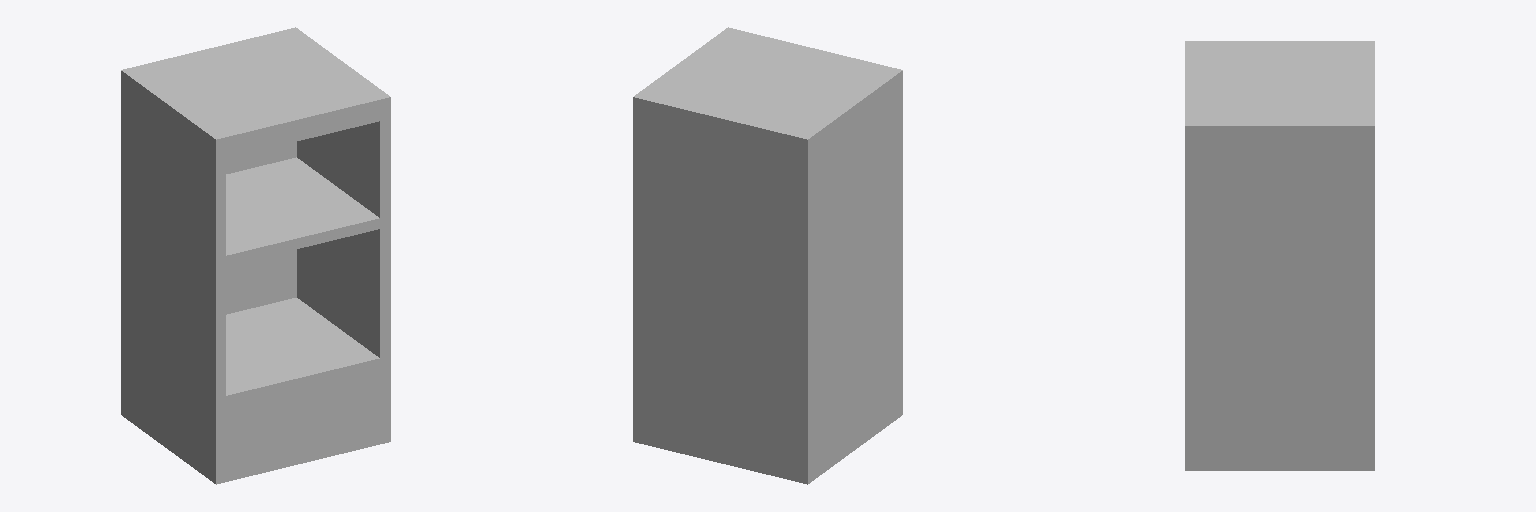
Rendered from backCounter_single.obj.
3 views of the same model, side by side, from view 1: azimuth 30°, elevation 25°; view 2: azimuth 150°, elevation 25°; view 3: azimuth 270°, elevation 25° (orthographic).
Visible parts, largest first — view 1: backCounter_single; view 2: backCounter_single; view 3: backCounter_single.
Part boxes in pixels (x1,y1,x2,y2): backCounter_single: (121, 27, 390, 484); backCounter_single: (633, 27, 902, 484); backCounter_single: (1185, 41, 1374, 470).
Bounding box in the file's own units: 1.06 × 2 × 1.